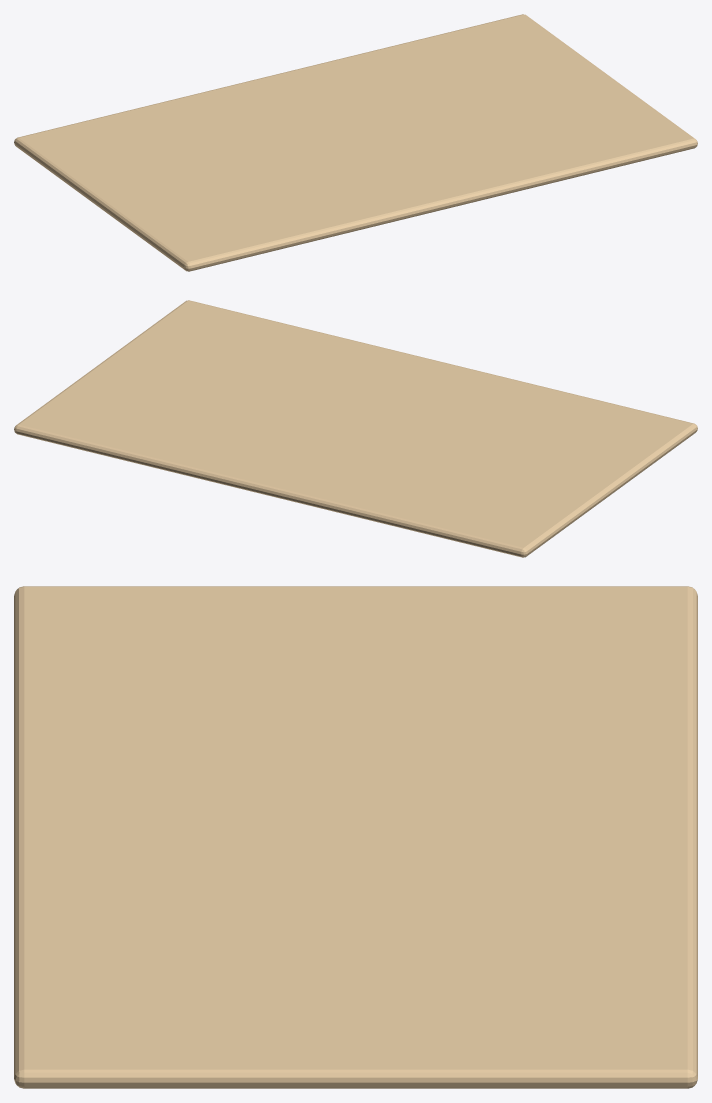
File: 门口地毯.fbx
3 views of the same model, one above another, from view 1: azimuth 30°, elevation 25°; view 2: azimuth 150°, elevation 25°; view 3: azimuth 270°, elevation 25° (orthographic). The views are drawn at different scales.
Parts seen in each view (by area): view 1: Cube.039; view 2: Cube.039; view 3: Cube.039.
Part boxes in pixels (left/top/right/bottom): Cube.039: left=14, top=14, right=697, bottom=271; Cube.039: left=14, top=300, right=697, bottom=557; Cube.039: left=14, top=586, right=697, bottom=1088.
Size of the model in its own units: 148 by 2.61 by 87.45.
